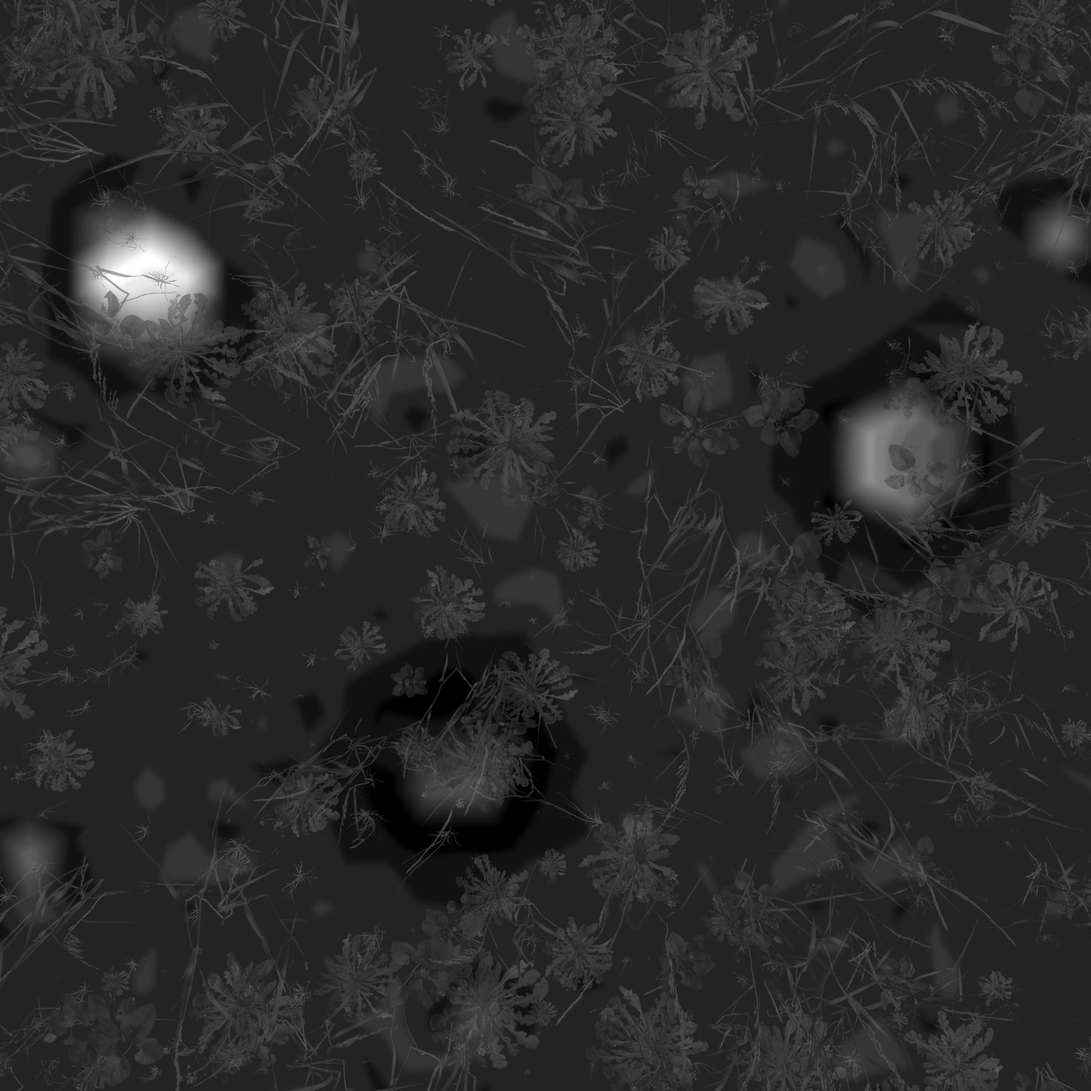landmine: (818, 370, 983, 545), (60, 206, 223, 362), (393, 699, 529, 832)
